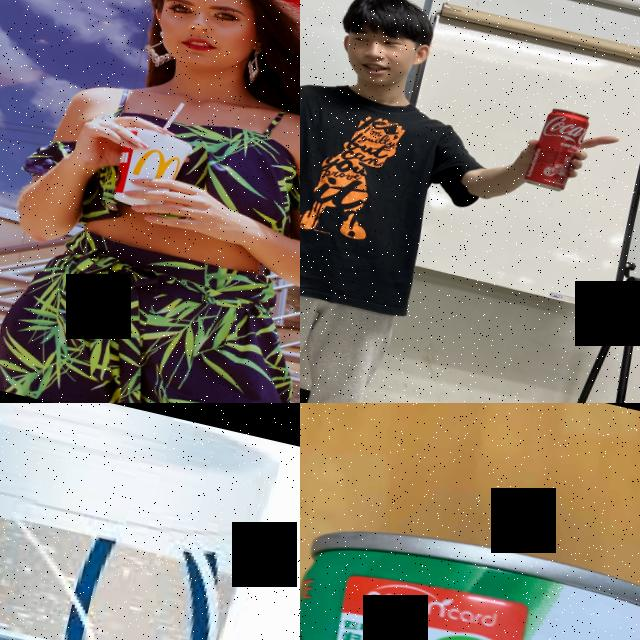can: (300, 506, 640, 640), (524, 103, 590, 194)
cup: (0, 403, 290, 640), (104, 122, 198, 218)
